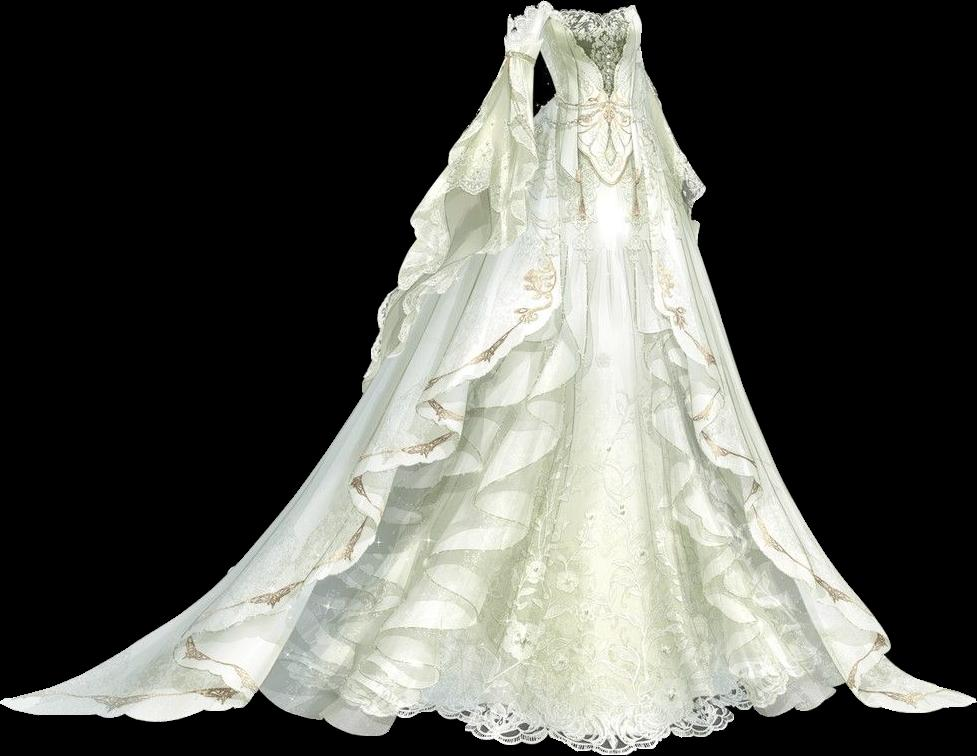Bodice: (541, 6, 639, 108)
Hemline: (184, 108, 584, 703), (627, 112, 894, 697), (253, 678, 852, 755), (575, 140, 640, 189)
Neckline: (553, 4, 631, 19)
Skirt: (0, 97, 975, 745)
Sleeve: (367, 1, 557, 369)
Sleeveline: (505, 1, 558, 23), (502, 49, 536, 63)
Waistline: (553, 92, 636, 115)
